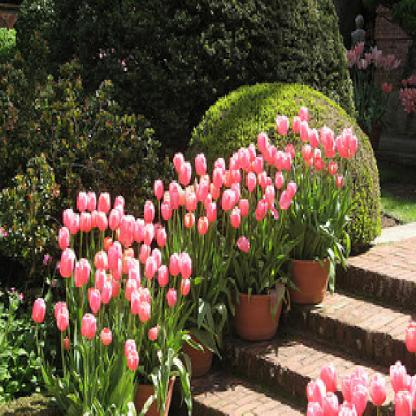TULIP: (41, 103, 413, 412)
